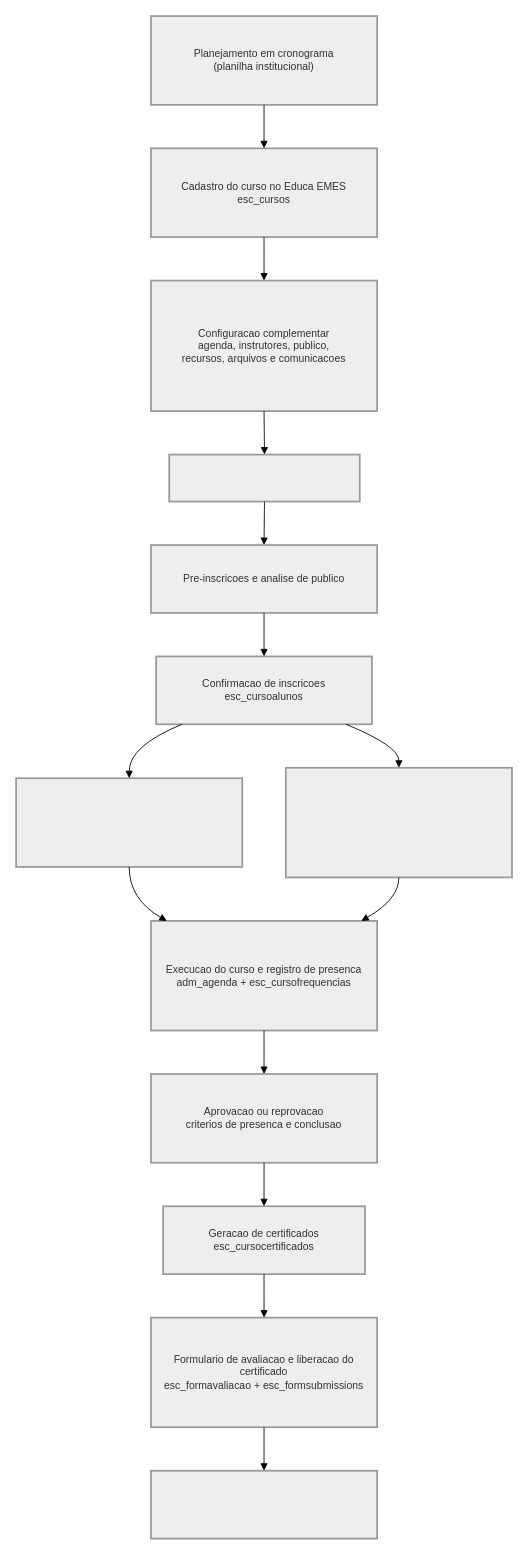
Image size: 527x1554. Some labels were removed from this diagram. Here are the shapes that lost their labels. From the top down, the centre of each, then its label:
At [264,477]: "Abertura de inscricoes".
At [129,822]: "Geracao automatica de frequencias esc_cursofrequencias".
At [398,822]: "Envio de confirmacao e lembretes esc_comunicacao / esc_comunicacaocurso".
At [264,1504]: "Relatorios e acompanhamento de metas".
